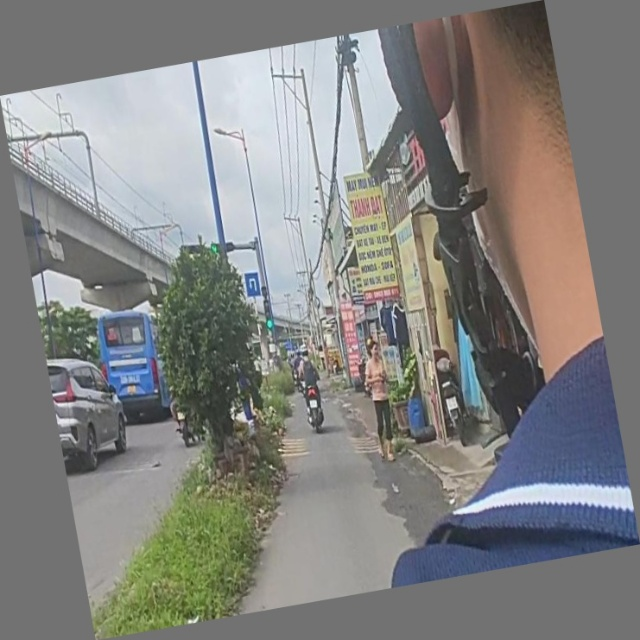I.409: (244, 269, 263, 302)
